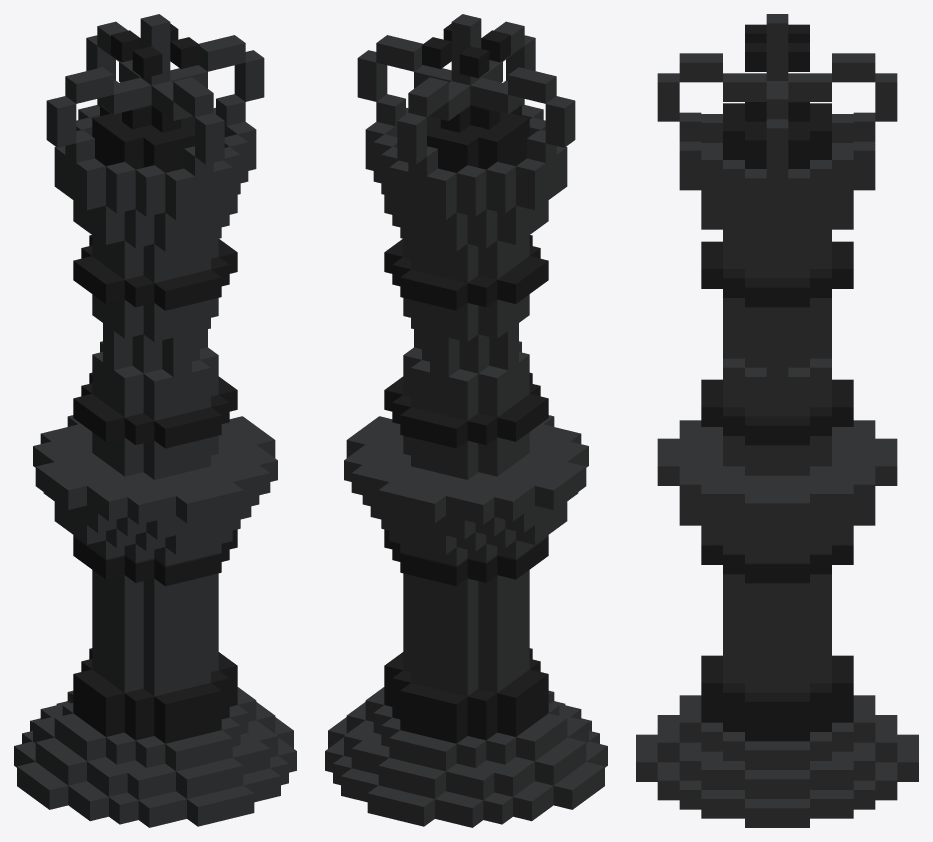
File: blackK.dae
3 renders of one model, left to right at view 1: azimuth 30°, elevation 25°; view 2: azimuth 150°, elevation 25°; view 3: azimuth 270°, elevation 25°, orthographic.
Visible parts, largest first — view 1: blackK; view 2: blackK; view 3: blackK.
Boxes of the visible parts, x1,y1,x2,y2 form: blackK: [14, 14, 296, 827]; blackK: [325, 14, 607, 827]; blackK: [636, 14, 918, 827].
Size of the model in its own units: 13 by 38 by 13.
1 material, 1 textured.
